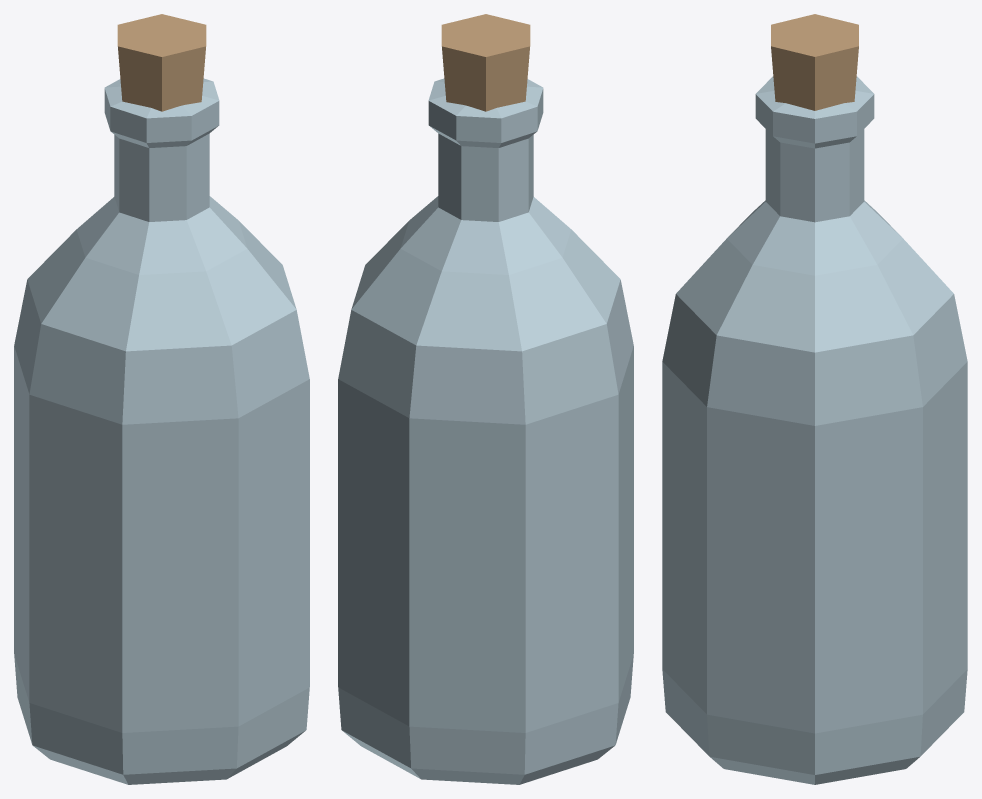
The model's file is Item_TonicBottle_AMF_T2_LOD1.glb.
The picture shows the model from 3 angles, left to right: view 1: azimuth 30°, elevation 25°; view 2: azimuth 150°, elevation 25°; view 3: azimuth 270°, elevation 25°; orthographic projection.
Parts seen in each view (by area): view 1: Item_TonicBottle_AMF_T2; view 2: Item_TonicBottle_AMF_T2; view 3: Item_TonicBottle_AMF_T2.
Part boxes in pixels (left/top/right/bottom): Item_TonicBottle_AMF_T2: left=14, top=14, right=309, bottom=784; Item_TonicBottle_AMF_T2: left=338, top=14, right=633, bottom=784; Item_TonicBottle_AMF_T2: left=662, top=14, right=967, bottom=784.
Bounding box in the file's own units: 0.09 × 0.226 × 0.09.
